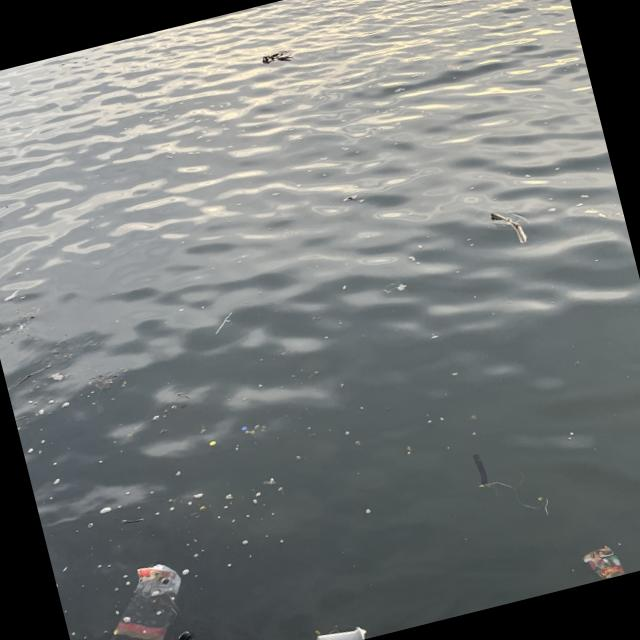can: (314, 627, 366, 640)
